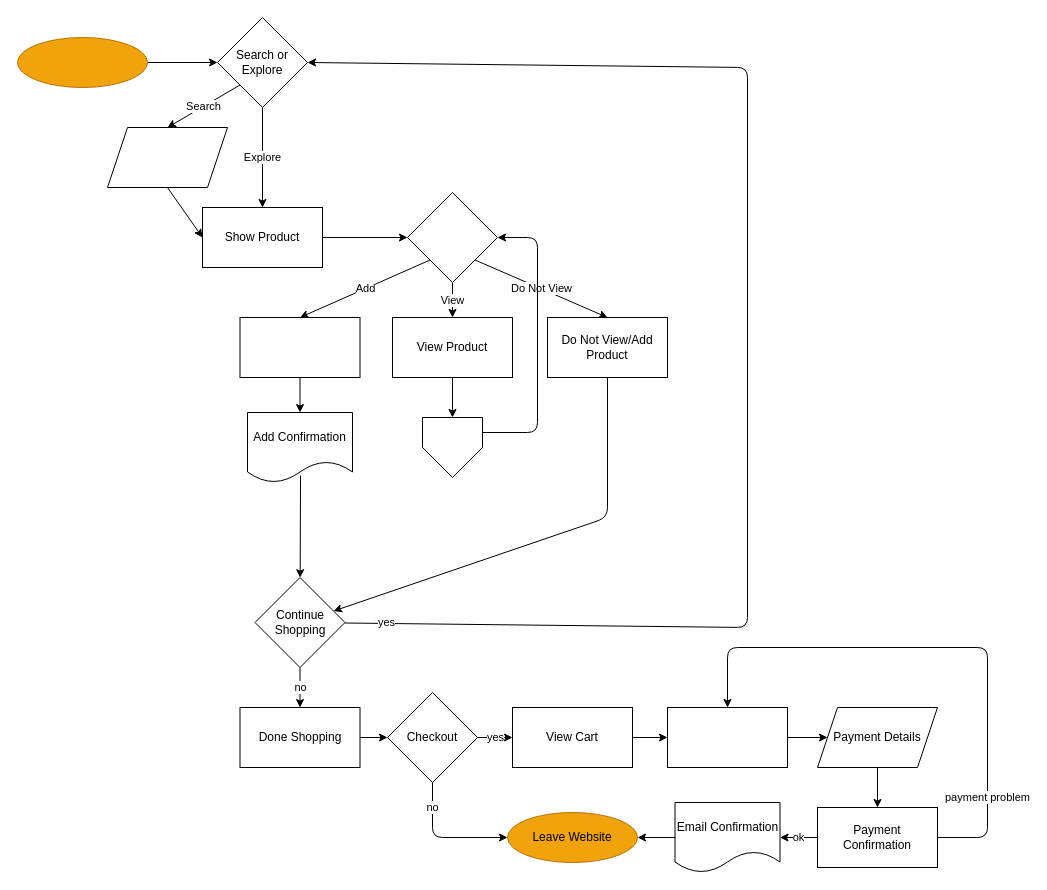
Some shapes in this 1047 by 890 pixel diagram are drawn without their labels. The centre of each missing label's shape, as x and y in pixels:
"Add to Cart" belongs at [299,347].
"Enter Website" belongs at [82,62].
"Go to Product Page" belongs at [452,447].
"Search Product" belongs at [167,157].
"User Decision" belongs at [452,237].
"View Payment" belongs at [727,737].
